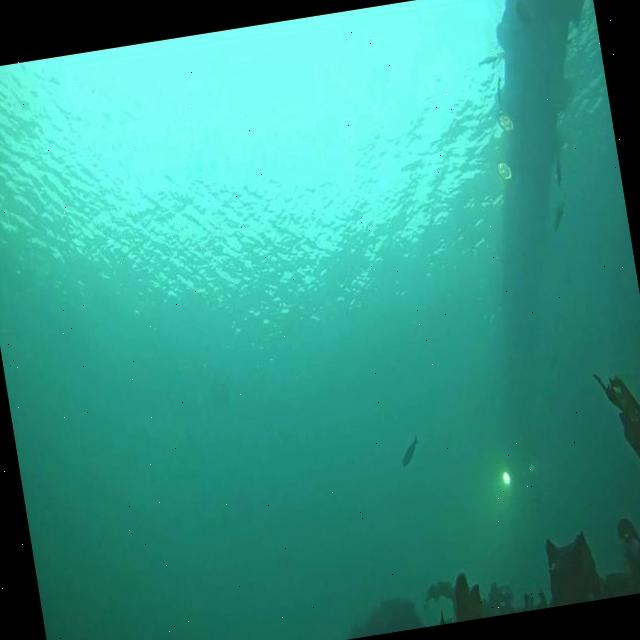fish: (398, 432, 423, 468), (548, 199, 570, 233), (554, 159, 564, 189)
